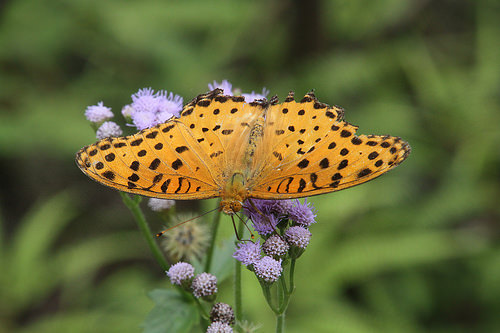Argyreus hyperbius: (69, 84, 415, 236)
butterfly: (71, 86, 417, 238)
